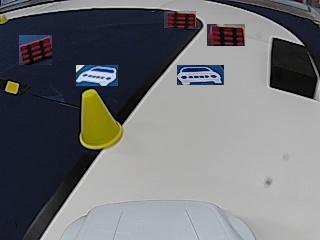block: (268, 37, 317, 99)
cone: (77, 90, 123, 148)
